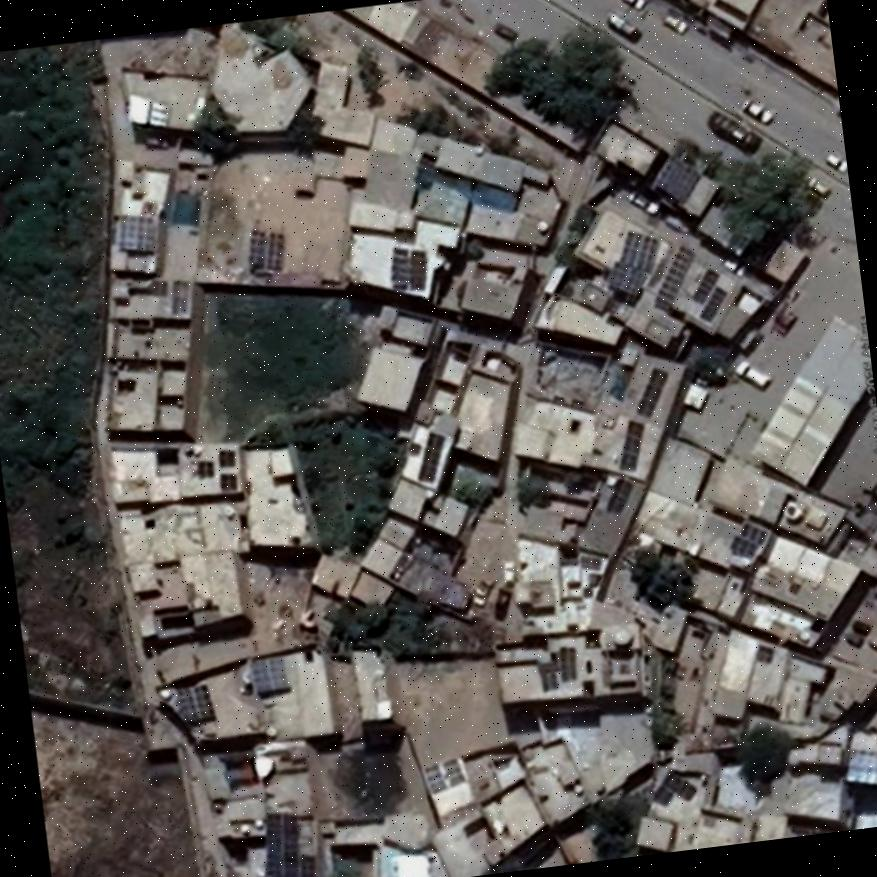Solarpanel: (605, 229, 663, 296), (265, 812, 316, 877), (655, 245, 695, 311), (656, 153, 703, 204), (248, 228, 285, 275), (636, 366, 667, 417), (250, 656, 287, 697), (114, 213, 153, 251), (175, 685, 211, 725), (420, 429, 445, 481), (731, 521, 765, 558), (392, 250, 425, 287), (621, 417, 643, 469), (700, 288, 731, 323), (691, 269, 721, 303), (559, 645, 577, 681)
